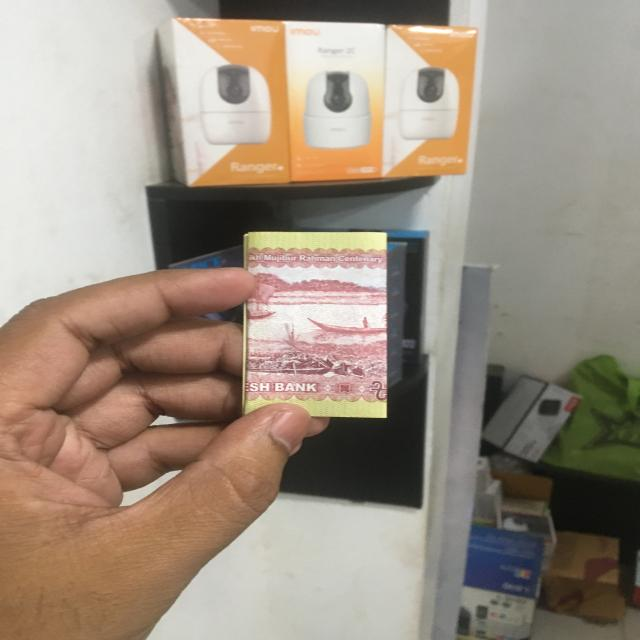Taka: (246, 230, 386, 412)
